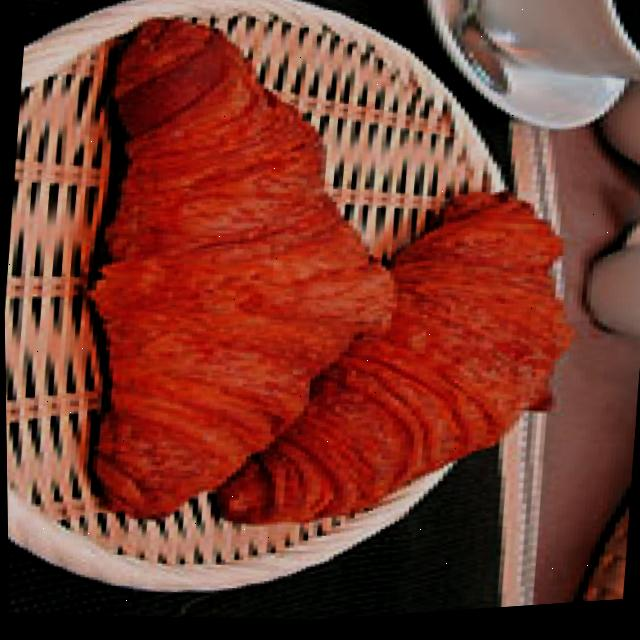面包点心: (52, 0, 625, 578)
